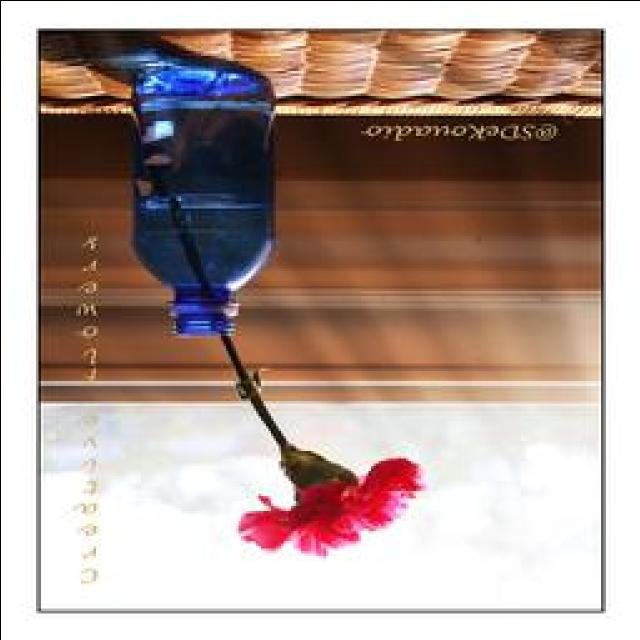carnation: (225, 431, 438, 573)
